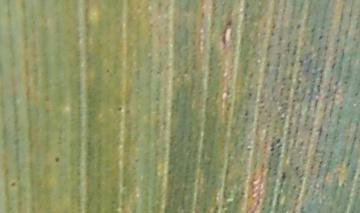tarspot: (199, 10, 206, 20), (9, 180, 17, 188), (53, 156, 61, 163), (268, 146, 276, 153), (295, 22, 302, 30), (353, 90, 360, 98), (133, 156, 140, 163), (116, 104, 122, 112), (243, 109, 249, 117), (317, 33, 323, 41), (274, 137, 281, 143), (104, 67, 110, 73), (247, 91, 253, 97)
